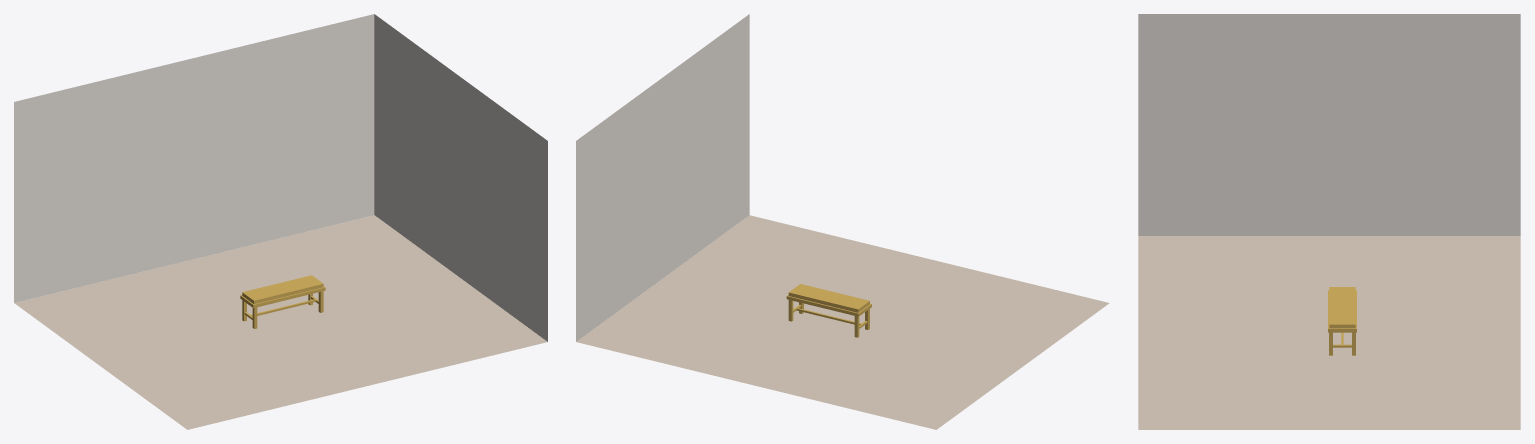
The model's file is silla-banca.glb.
The picture shows the model from 3 angles, left to right: view 1: azimuth 30°, elevation 25°; view 2: azimuth 150°, elevation 25°; view 3: azimuth 270°, elevation 25°; orthographic projection. The views are drawn at different scales.
Visible parts, largest first — view 1: sala, decoracion; view 2: sala, decoracion; view 3: sala, decoracion.
Part boxes in pixels (x1=…): sala: x1=14, y1=14, x2=547, y2=429; decoracion: x1=240, y1=275, x2=325, y2=328; sala: x1=576, y1=14, x2=1109, y2=429; decoracion: x1=786, y1=284, x2=871, y2=337; sala: x1=1138, y1=14, x2=1520, y2=429; decoracion: x1=1328, y1=287, x2=1356, y2=355.
Size of the model in its own units: 6 by 3.2 by 5.
